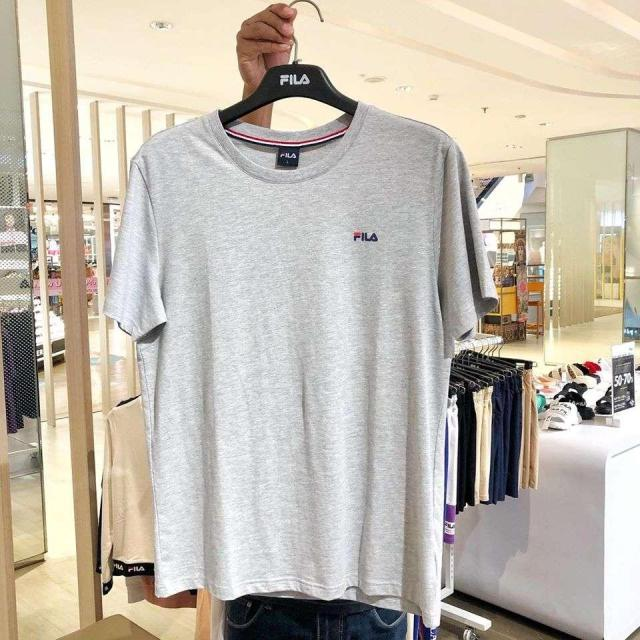Tshirt: (101, 100, 498, 624)
